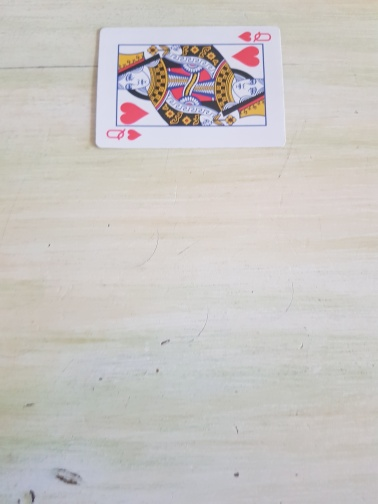queen: (93, 24, 287, 151)
